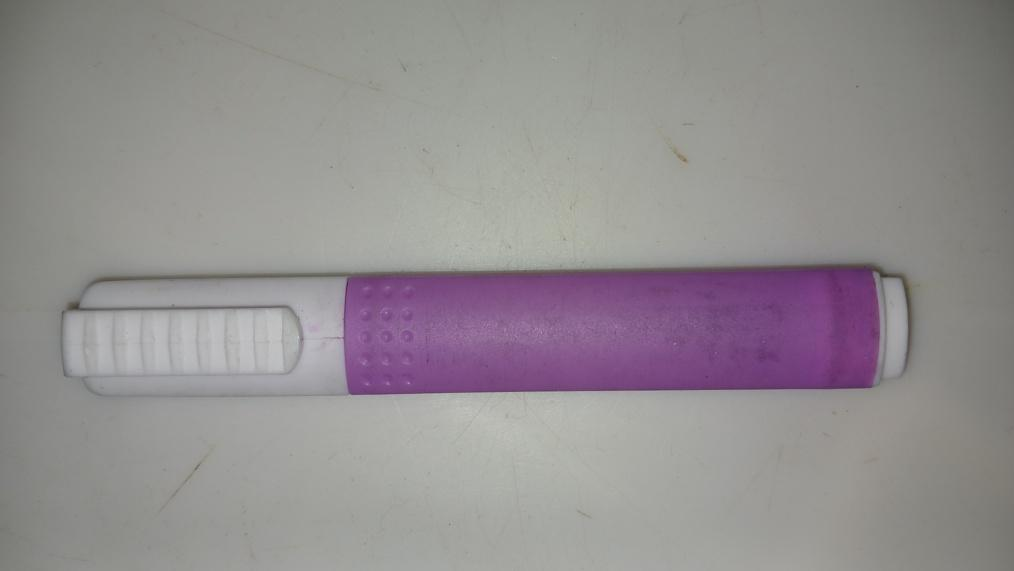Highlighter: (53, 265, 919, 403)
